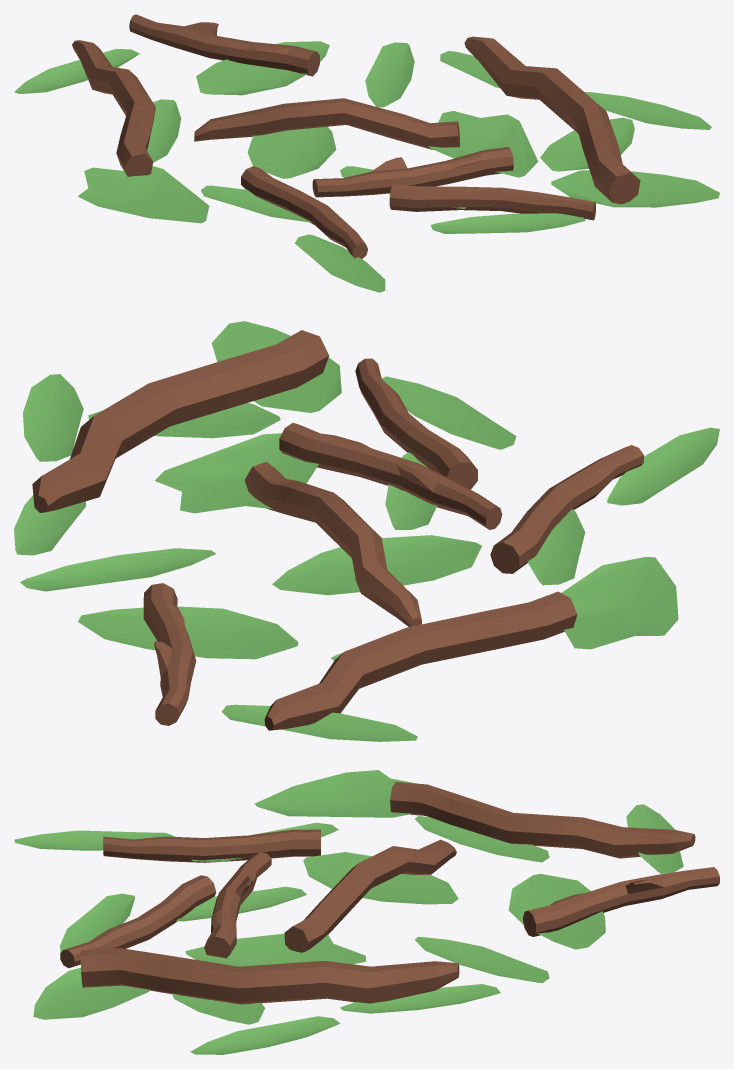
Rendered from Undergrowth.fbx.
The picture shows the model from 3 angles, top to bottom: view 1: azimuth 30°, elevation 25°; view 2: azimuth 150°, elevation 25°; view 3: azimuth 270°, elevation 25°; orthographic projection. The views are drawn at different scales.
Parts seen in each view (by area): view 1: Undergrowth; view 2: Undergrowth; view 3: Undergrowth.
Part boxes in pixels (bbox=[...]): Undergrowth: bbox=[14, 14, 719, 292]; Undergrowth: bbox=[14, 321, 719, 741]; Undergrowth: bbox=[14, 770, 719, 1054].
Bounding box in the file's own units: 3.53 × 0.3267 × 3.72.
